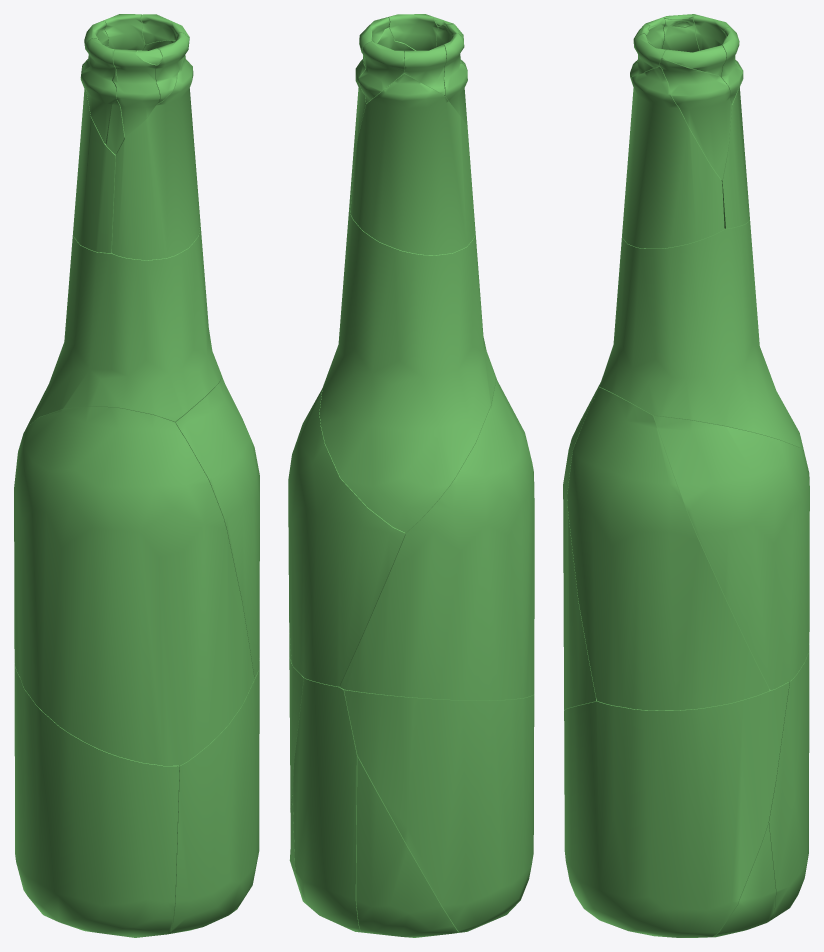
The model's file is ShardsGlassBottle2.fbx.
The picture shows the model from 3 angles, left to right: view 1: azimuth 30°, elevation 25°; view 2: azimuth 150°, elevation 25°; view 3: azimuth 270°, elevation 25°; orthographic projection.
Parts seen in each view (by area): view 1: Circle_cell.001, Circle_cell.003, Circle_cell.004, Circle_cell.006, Circle_cell.005, Circle_cell.011, Circle_cell.008, Circle_cell.018, Circle_cell.017, Circle_cell.010, Circle_cell.009, Circle_cell.015 (+1 smaller); view 2: Circle_cell.004, Circle_cell.001, Circle_cell.003, Circle_cell.012, Circle_cell.008, Circle_cell.013, Circle_cell.019, Circle_cell.009, Circle_cell.010, Circle_cell.017, Circle_cell.014, Circle_cell.006 (+2 smaller); view 3: Circle_cell.006, Circle_cell.011, Circle_cell.004, Circle_cell.012, Circle_cell.005, Circle_cell.013, Circle_cell.016, Circle_cell.001, Circle_cell.002, Circle_cell.008, Circle_cell.015, Circle_cell.007 (+3 smaller).
Part boxes in pixels (x1,y1,x2,y2): Circle_cell.001: (14, 406, 254, 765); Circle_cell.003: (14, 663, 179, 937); Circle_cell.004: (26, 223, 221, 427); Circle_cell.006: (171, 658, 259, 933); Circle_cell.005: (112, 55, 200, 260); Circle_cell.011: (175, 377, 259, 678); Circle_cell.008: (73, 46, 116, 252); Circle_cell.018: (113, 49, 159, 137); Circle_cell.017: (81, 38, 116, 143); Circle_cell.010: (155, 32, 189, 103); Circle_cell.009: (103, 14, 145, 50); Circle_cell.015: (141, 14, 188, 44); Circle_cell.004: (319, 209, 495, 532); Circle_cell.001: (339, 369, 534, 700); Circle_cell.003: (344, 689, 534, 932); Circle_cell.012: (288, 389, 405, 686); Circle_cell.008: (350, 74, 475, 255); Circle_cell.013: (292, 678, 361, 932); Circle_cell.019: (356, 757, 458, 937); Circle_cell.009: (359, 41, 404, 103); Circle_cell.010: (388, 14, 438, 50); Circle_cell.017: (444, 33, 467, 126); Circle_cell.014: (404, 44, 446, 95); Circle_cell.006: (289, 657, 303, 851); Circle_cell.006: (564, 682, 789, 937); Circle_cell.011: (567, 387, 769, 710); Circle_cell.004: (599, 220, 804, 453); Circle_cell.012: (654, 416, 809, 690); Circle_cell.005: (622, 67, 724, 248); Circle_cell.013: (768, 651, 809, 918); Circle_cell.016: (659, 59, 731, 180); Circle_cell.001: (563, 382, 809, 710); Circle_cell.002: (712, 823, 775, 937); Circle_cell.008: (721, 60, 749, 228); Circle_cell.015: (662, 45, 726, 75); Circle_cell.007: (662, 17, 699, 52).
Bounding box in the file's own units: 94.72 × 365 × 94.72.
